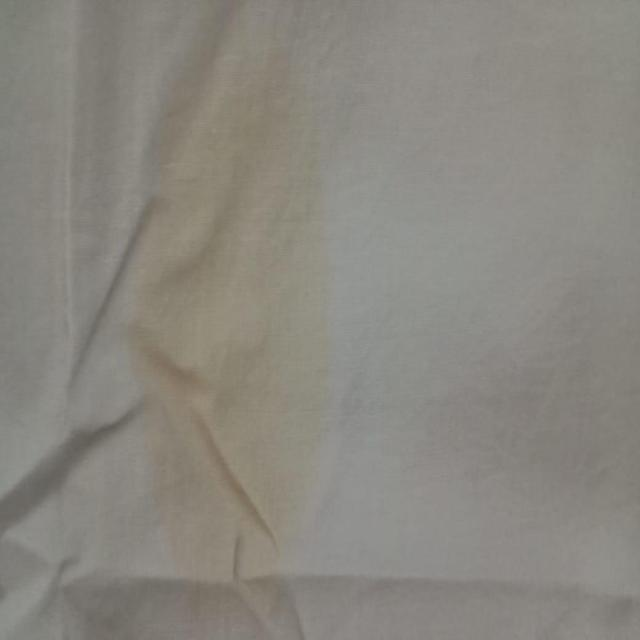stain: (144, 10, 316, 589)
